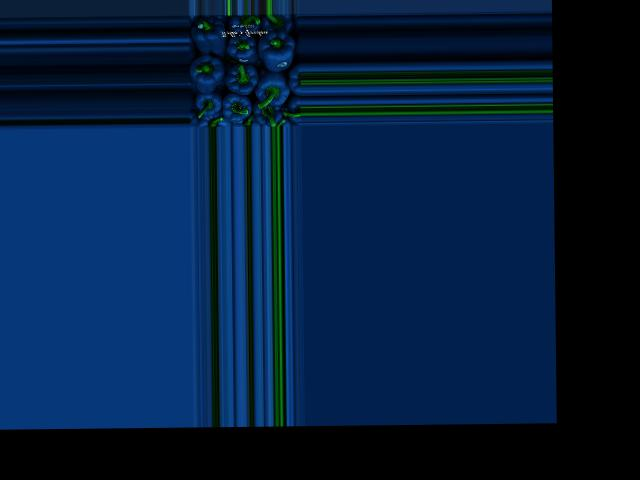bell_pepper: (259, 13, 297, 37)
